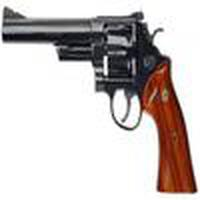gun: (2, 7, 197, 200)
